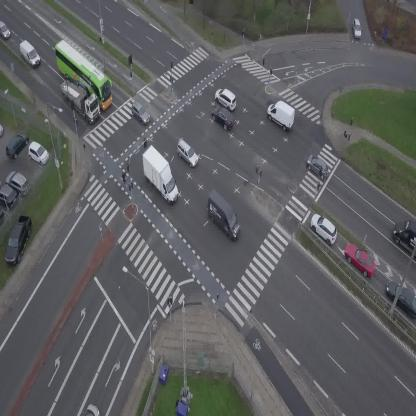bicycle: (119, 171, 129, 189)
bus: (44, 36, 123, 111)
car: (339, 239, 381, 282), (305, 210, 343, 247), (206, 102, 240, 134), (171, 138, 203, 169), (301, 151, 334, 181), (211, 84, 241, 112), (126, 100, 154, 126), (351, 18, 362, 39), (82, 404, 100, 416), (0, 20, 10, 39)
lorry: (131, 145, 190, 205), (52, 71, 108, 125), (196, 189, 249, 242), (262, 96, 301, 133), (392, 220, 416, 257), (15, 38, 44, 68)
